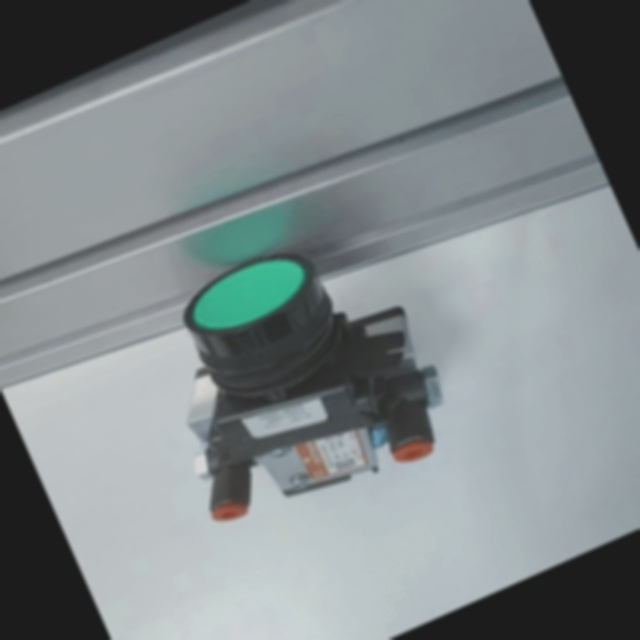push button: (121, 207, 467, 546)
